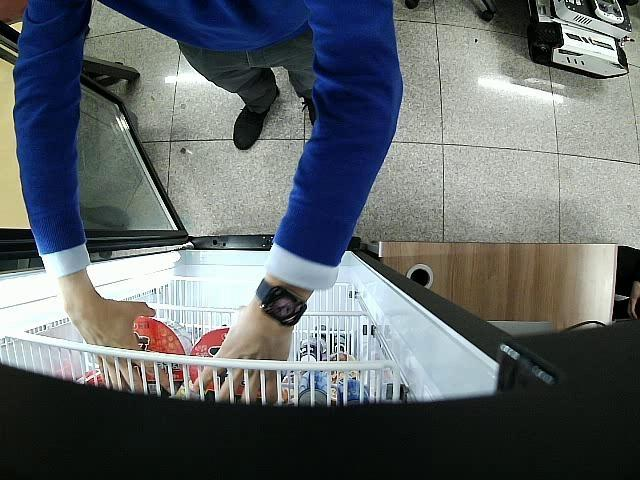01_ShinRamen_L: (100, 316, 196, 396), (189, 326, 262, 403)
